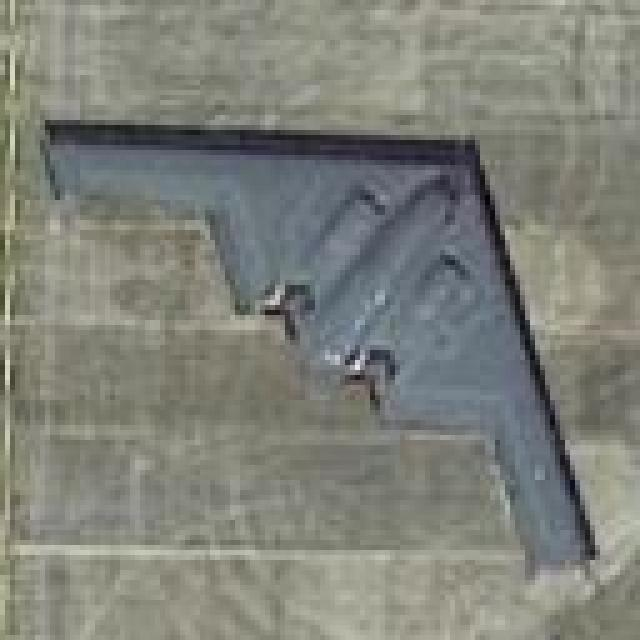B-2_TopDown: (35, 105, 605, 590)
